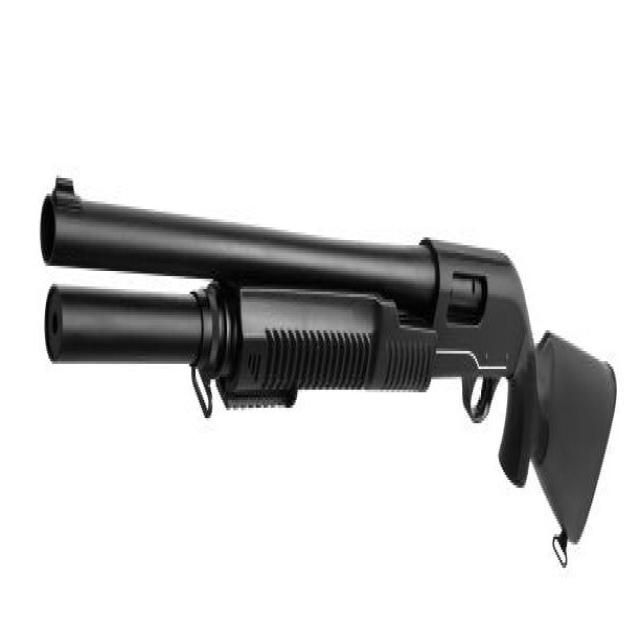rifle: (40, 162, 618, 586)
